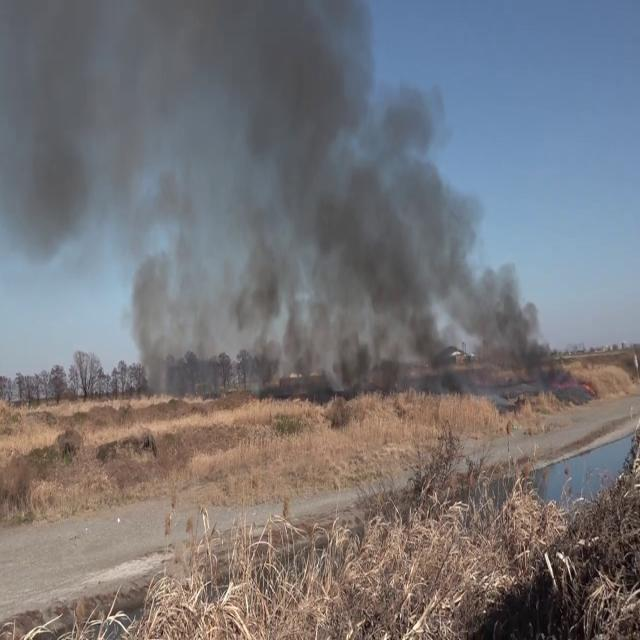Smoke: (0, 0, 559, 381)
